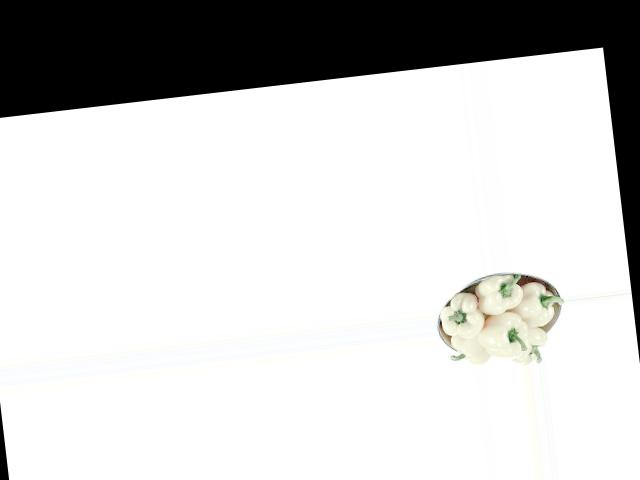bell_pepper: (508, 321, 554, 365)
